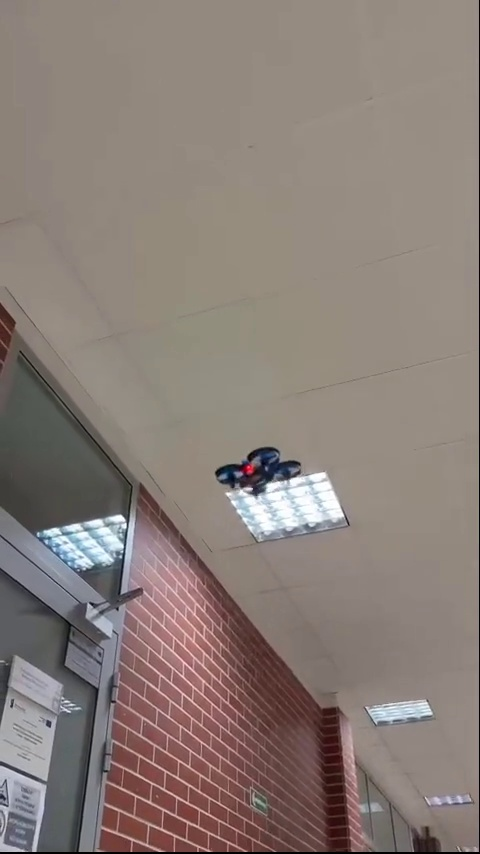drone: (212, 448, 304, 496)
